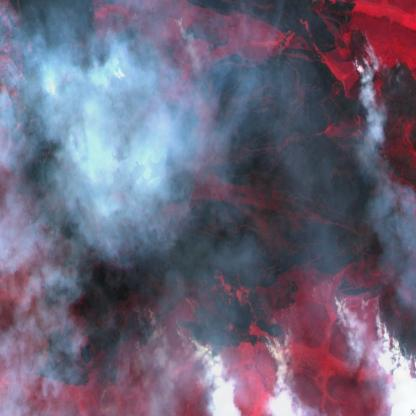fire: (95, 268, 416, 396), (344, 24, 380, 79)
